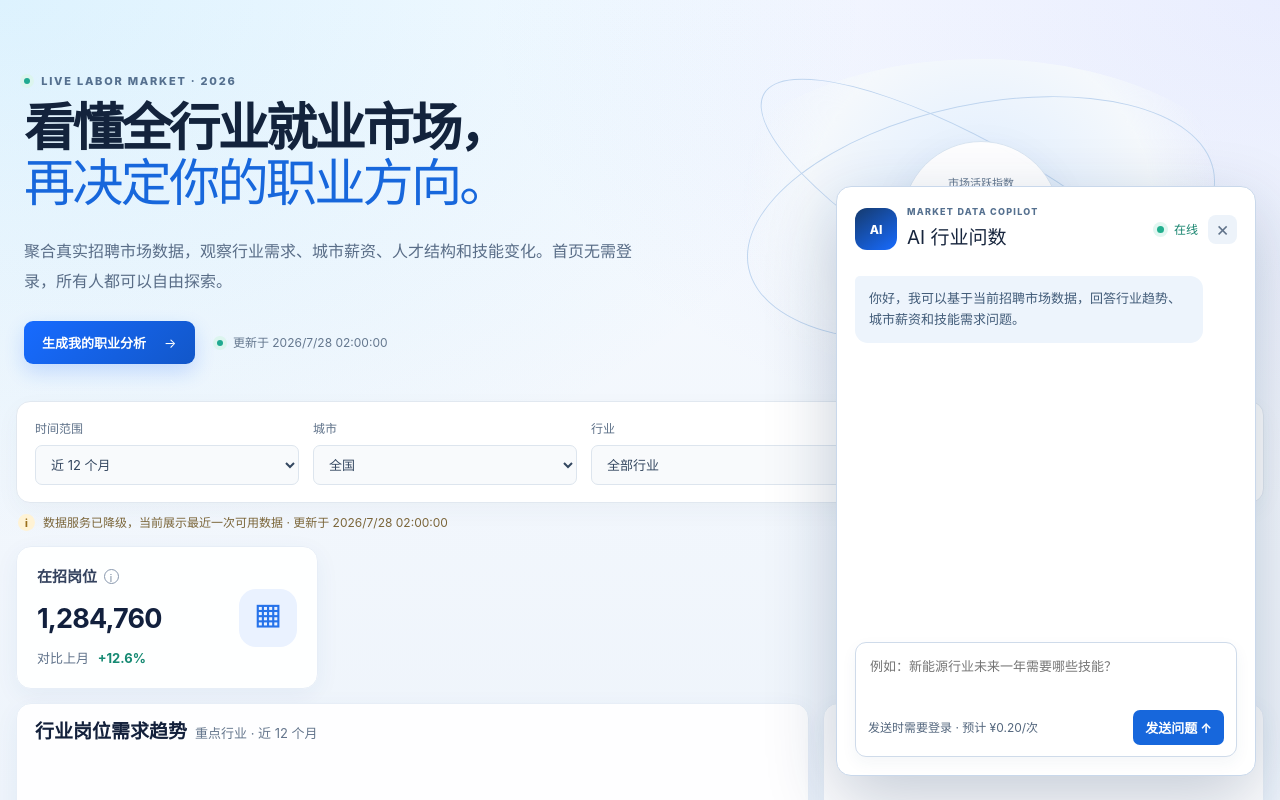
Test: HomeView V2 › waits for an asynchronous market answer and then reloads history
Type "新能源需要哪些技能？" into the text box with test id "market-ai-input" at (1046,678), box [868,654,1224,702]
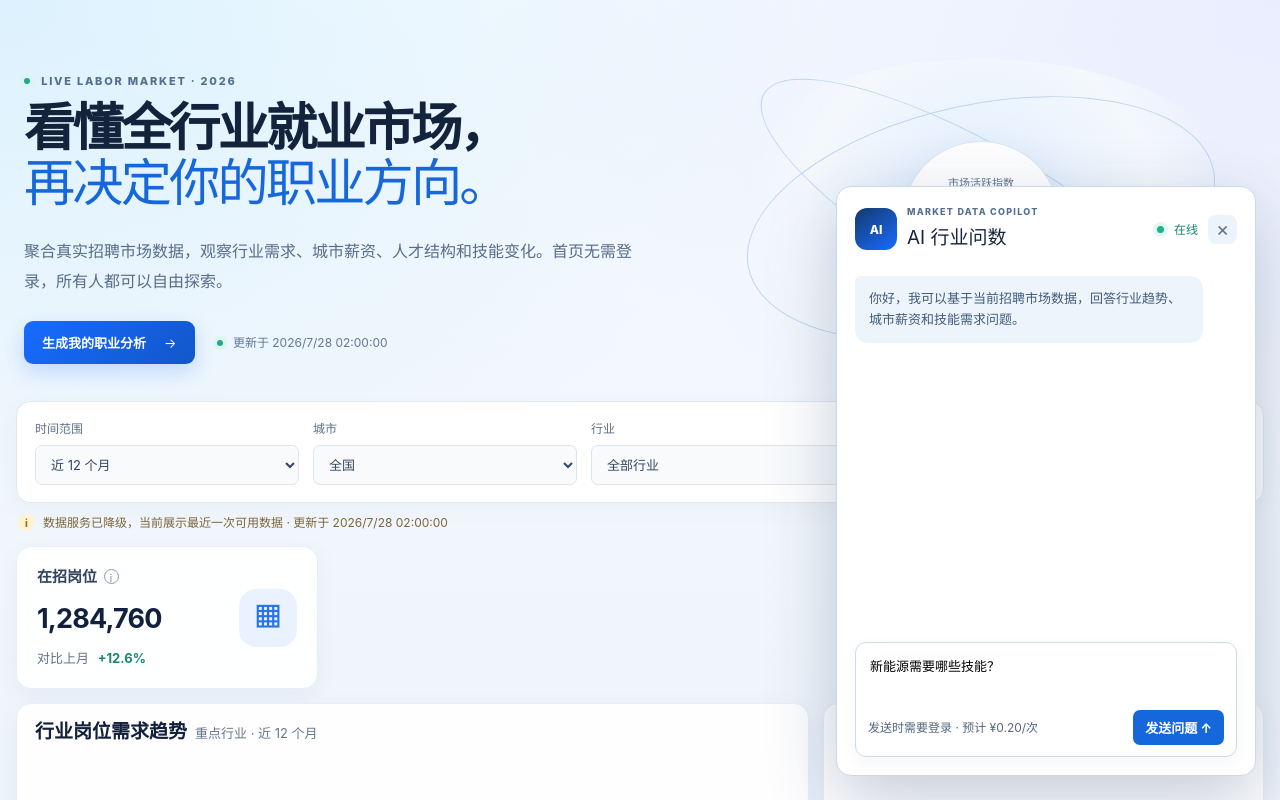
Submit the form with class "ai-composer", box [855,642,1237,757]
Wait 6000 ms
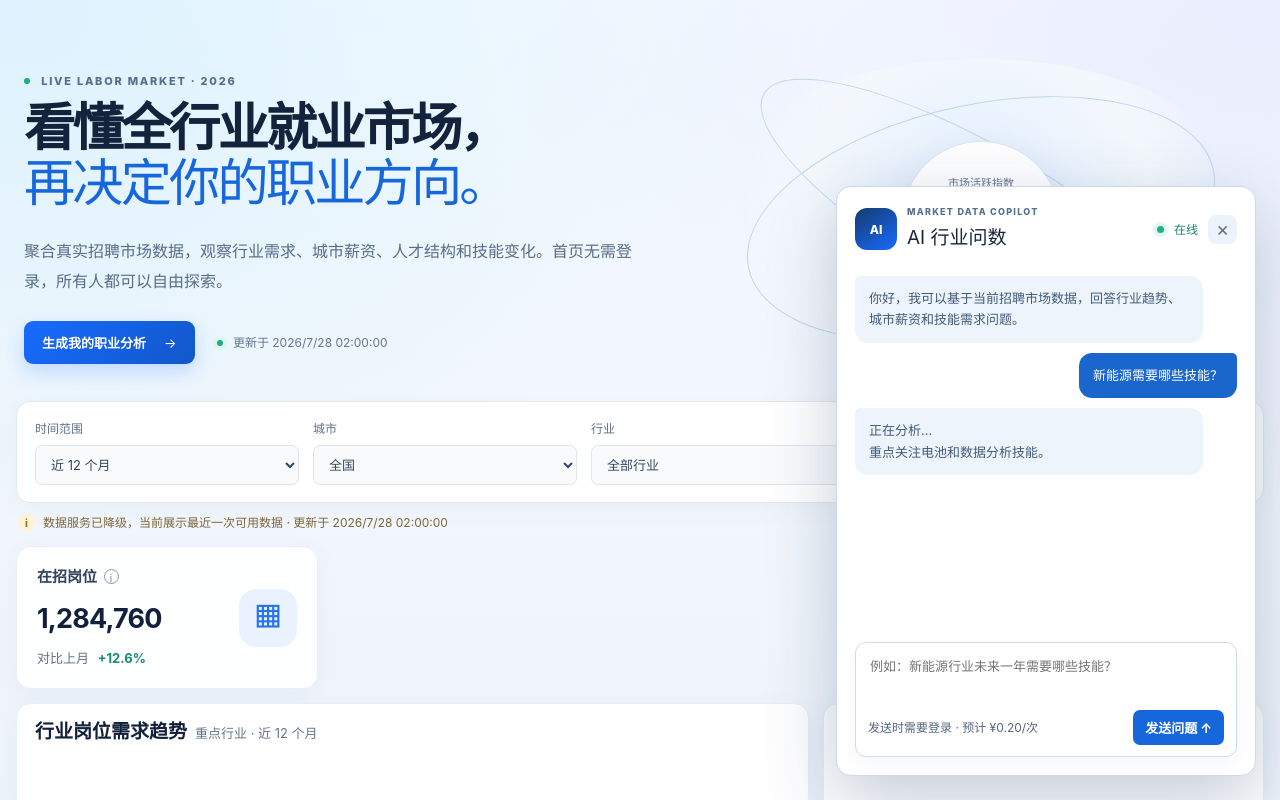
Expected: the element with class "ai-message-list" shows "重点关注电池和数据分析技能。", [869,444,1051,460]
